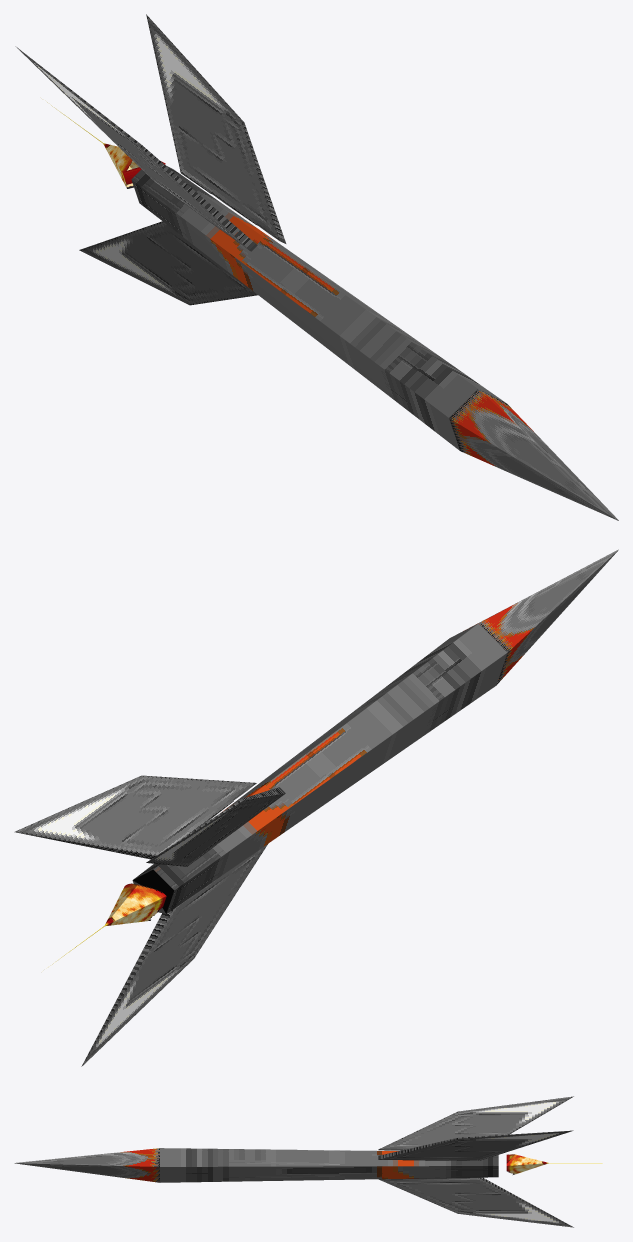
The model's file is bradmis2.obj.
3 views of the same model, one above another, from view 1: azimuth 30°, elevation 25°; view 2: azimuth 150°, elevation 25°; view 3: azimuth 270°, elevation 25° (orthographic). The views are drawn at different scales.
Bounding box in the file's own units: 0.7546 × 1.21 × 5.76.
7 materials, 6 textured.
